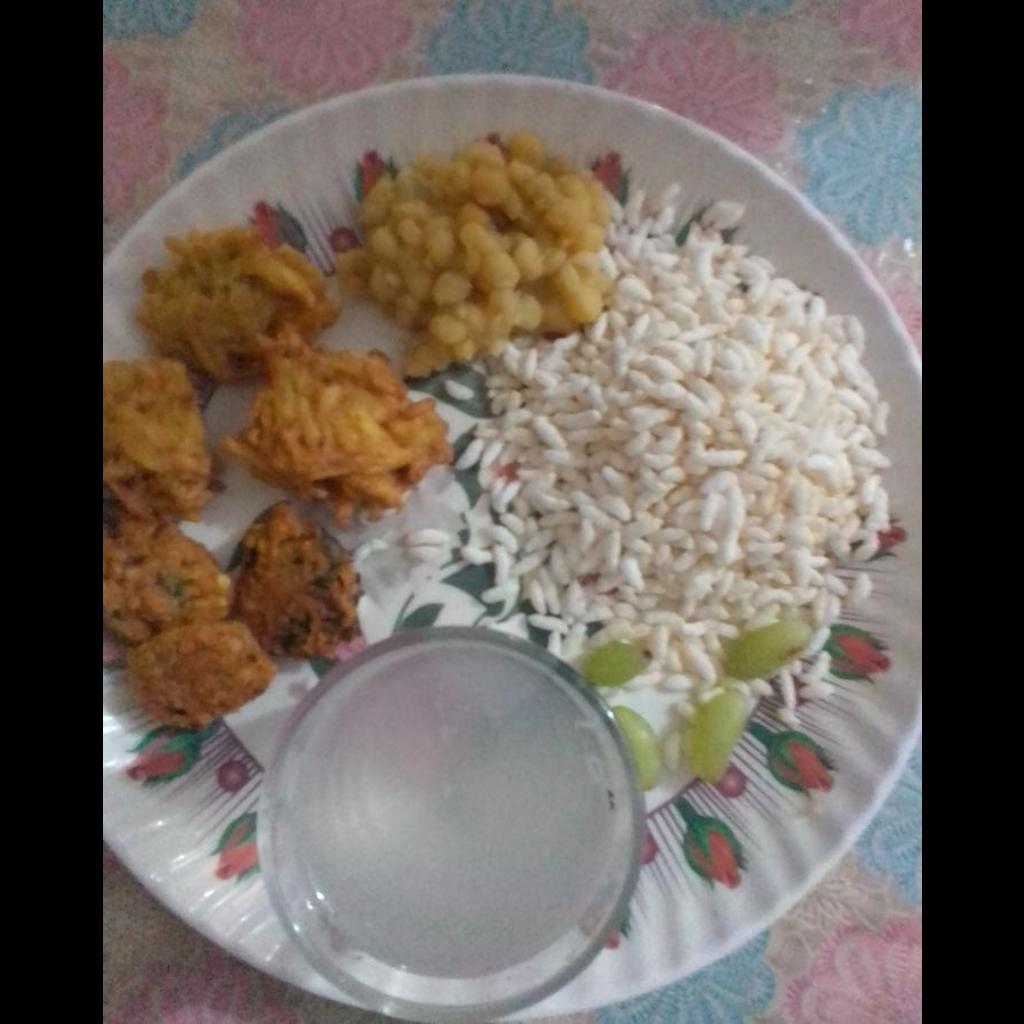burinda: (342, 133, 608, 372)
juice: (259, 627, 646, 1023)
peyaju: (102, 219, 455, 730)
puffed-rice: (472, 186, 893, 629)
